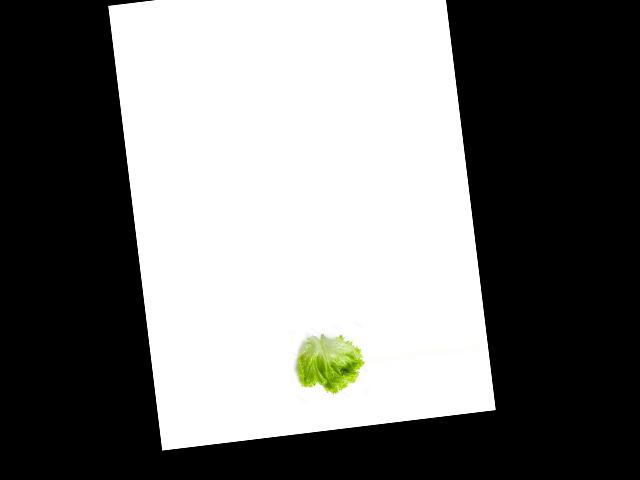lettuce: (287, 327, 369, 395)
